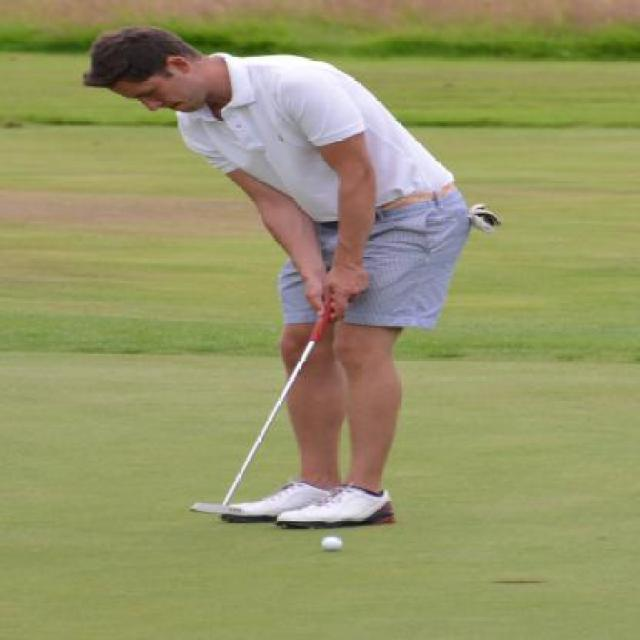club head: (186, 488, 246, 514)
